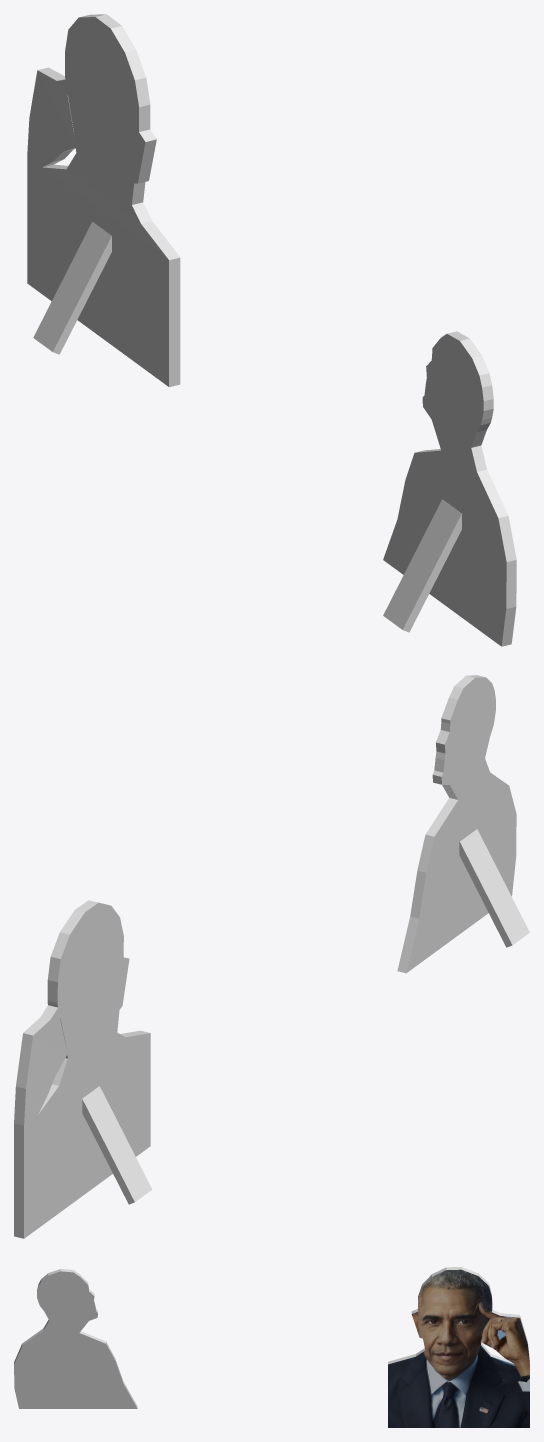
Rendered from NewObstacles.fbx.
3 views of the same model, one above another, from view 1: azimuth 30°, elevation 25°; view 2: azimuth 150°, elevation 25°; view 3: azimuth 270°, elevation 25° (orthographic). The views are drawn at different scales.
Parts seen in each view (by area): view 1: Cube.001, Cube.003; view 2: Cube.001, Cube.003; view 3: Cube.001, Cube.003.
Boxes of the visible parts, x1,y1,x2,y2 form: Cube.001: (27, 14, 180, 387); Cube.003: (383, 331, 516, 646); Cube.001: (14, 900, 152, 1238); Cube.003: (397, 675, 529, 973); Cube.001: (388, 1267, 529, 1427); Cube.003: (14, 1269, 137, 1408).
Bounding box in the file's own units: 216 × 609 × 1799.
